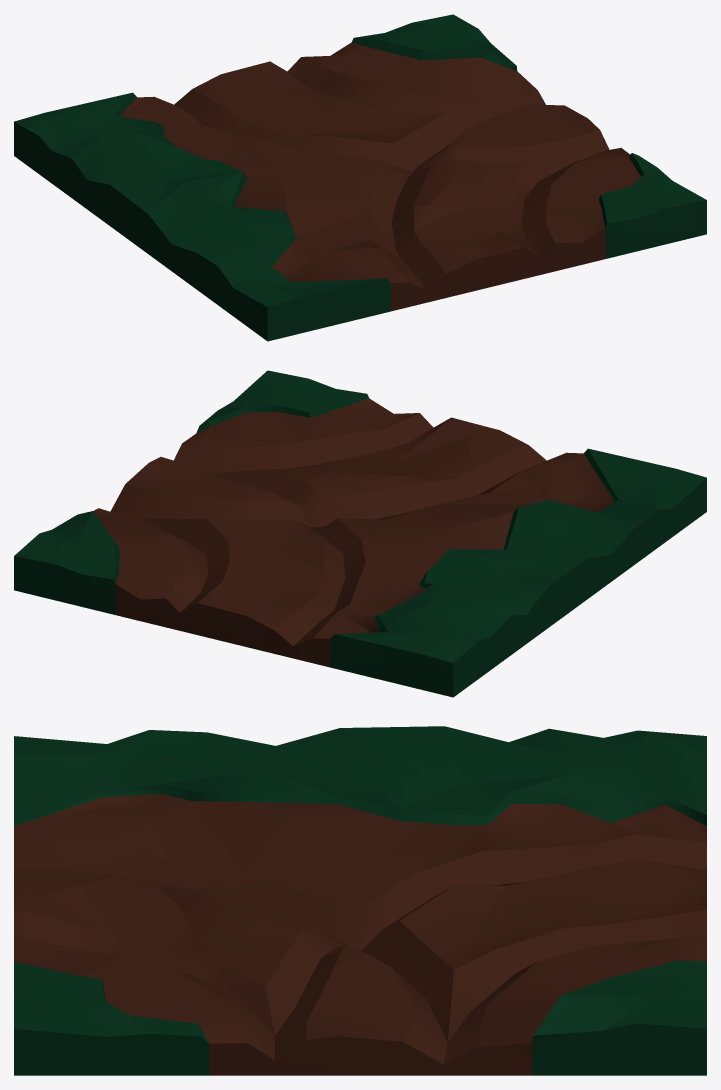
The model's file is Ground_Road_Crossroads_R.fbx.
3 views of the same model, one above another, from view 1: azimuth 30°, elevation 25°; view 2: azimuth 150°, elevation 25°; view 3: azimuth 270°, elevation 25° (orthographic). The views are drawn at different scales.
Parts seen in each view (by area): view 1: Ground_Road_Crossroads_R; view 2: Ground_Road_Crossroads_R; view 3: Ground_Road_Crossroads_R.
Boxes of the visible parts, x1=… form: Ground_Road_Crossroads_R: x1=14, y1=14, x2=706, y2=341; Ground_Road_Crossroads_R: x1=14, y1=370, x2=706, y2=697; Ground_Road_Crossroads_R: x1=14, y1=726, x2=706, y2=1075.
Bounding box in the file's own units: 147 × 14.83 × 147.
